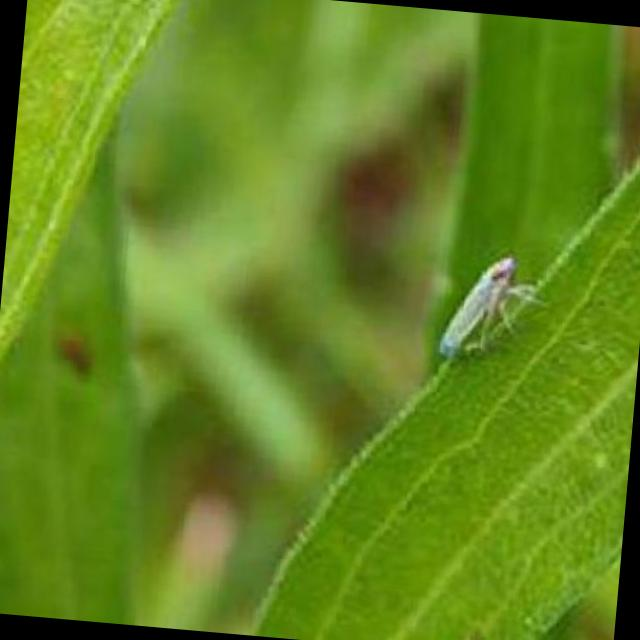green-leafhopper: (433, 248, 531, 364)
